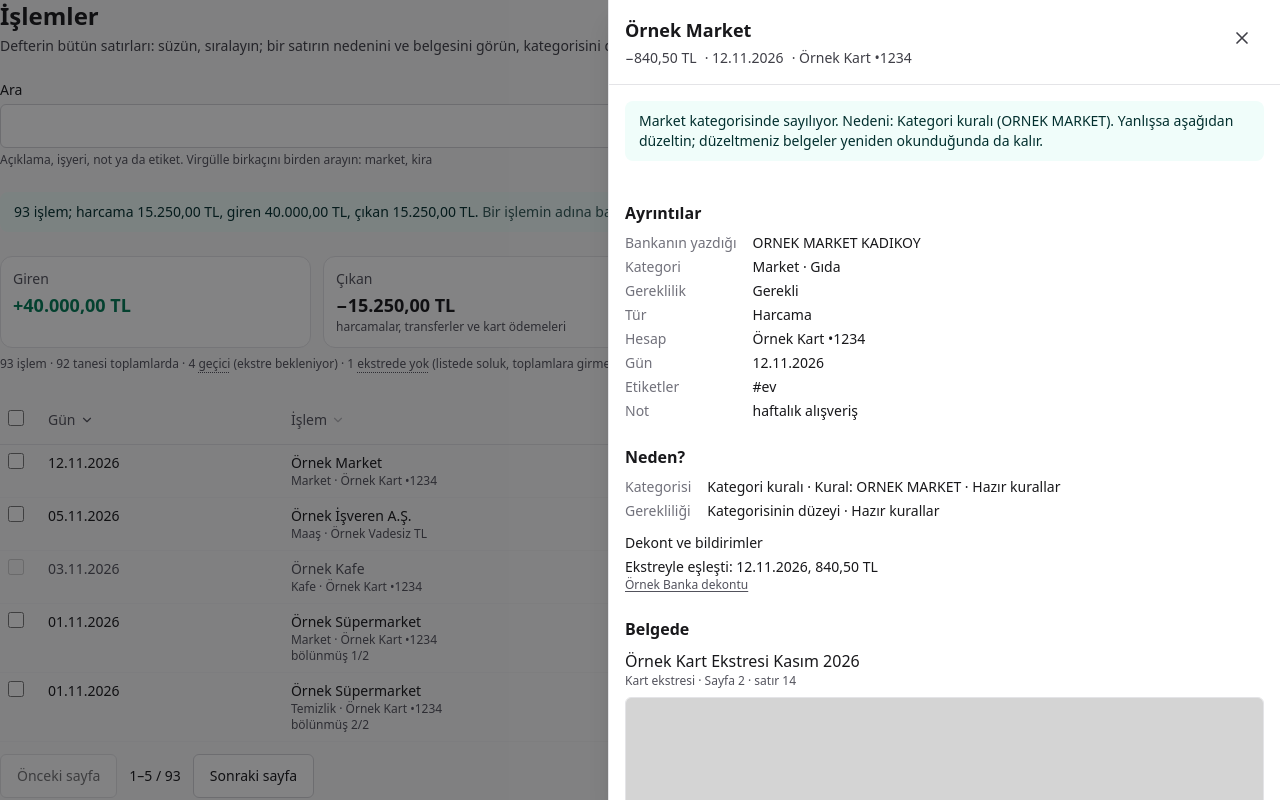
Test: RowPanel: what the row is and why › closes, taking the row out of the address
The width and height of the screenshot is (1280, 800).
Click the button named "Kapat". click: (1242, 38)
box: [1220, 16, 1264, 60]
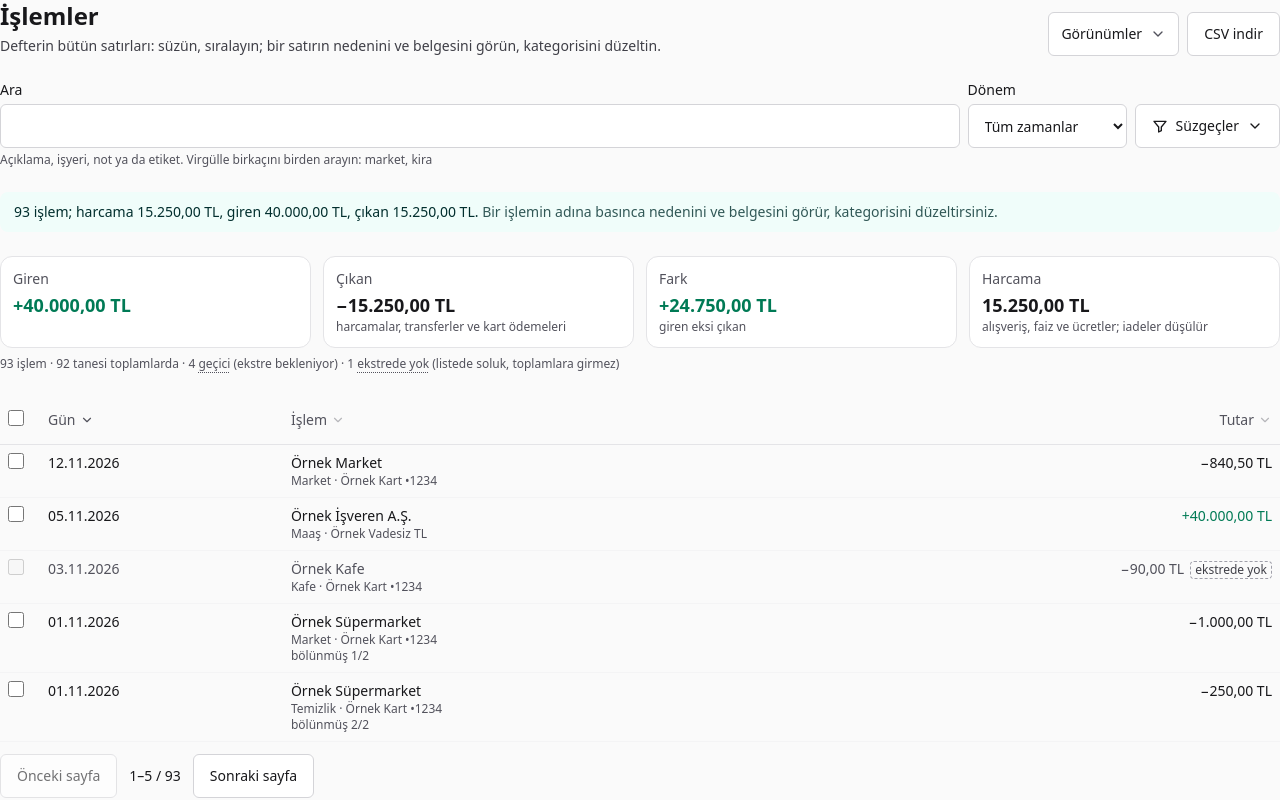
Expected: the dialog is gone
